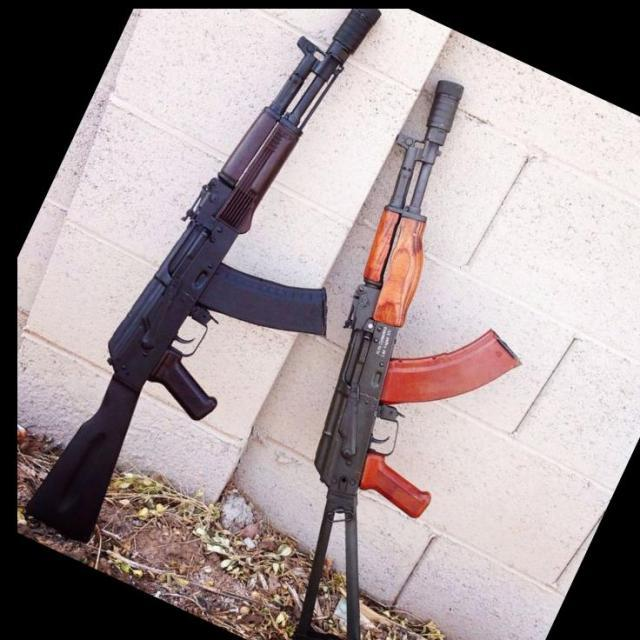weapon: (22, 8, 384, 544), (290, 78, 524, 640)
